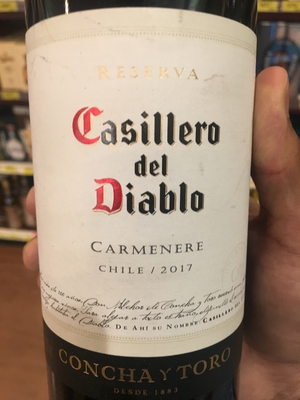casillero del diablo carmenere: (25, 8, 259, 400)
